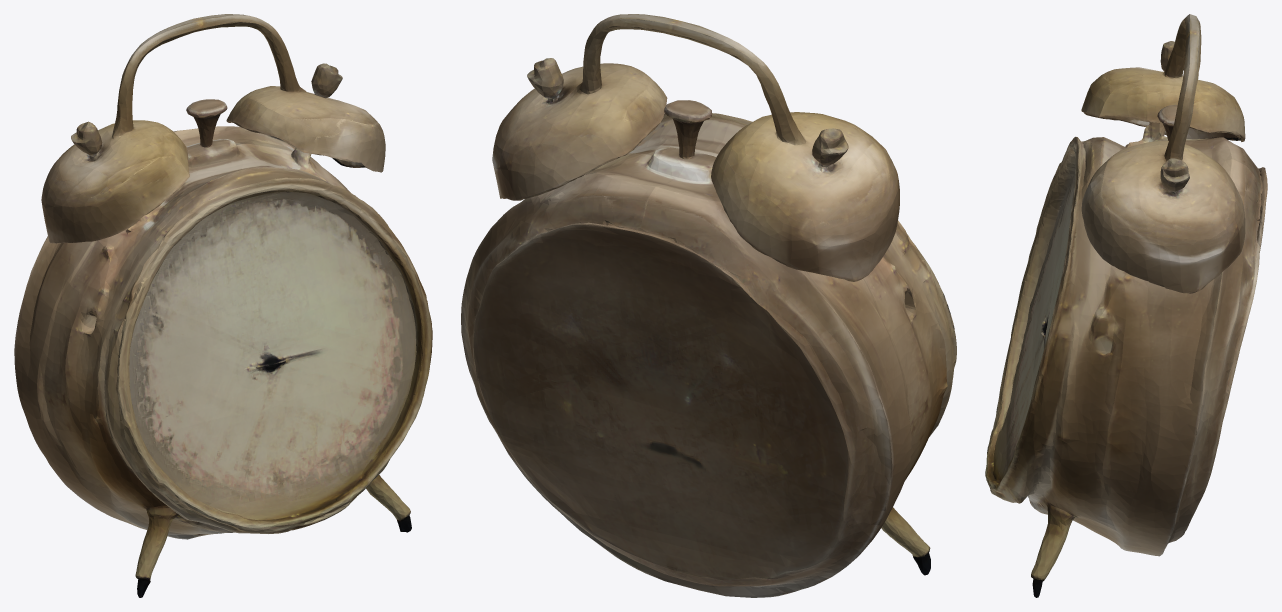
3 renders of one model, left to right at view 1: azimuth 30°, elevation 25°; view 2: azimuth 150°, elevation 25°; view 3: azimuth 270°, elevation 25°, orthographic. The views are drawn at different scales.
Parts seen in each view (by area): view 1: world; view 2: world; view 3: world.
Boxes of the visible parts, <box> form: world: <box>14,14,432,597</box>; world: <box>461,14,956,597</box>; world: <box>985,14,1267,597</box>.
Size of the model in its own units: 0.7727 by 0.9999 by 0.5108.
Materials: 1 (1 with a texture image).
